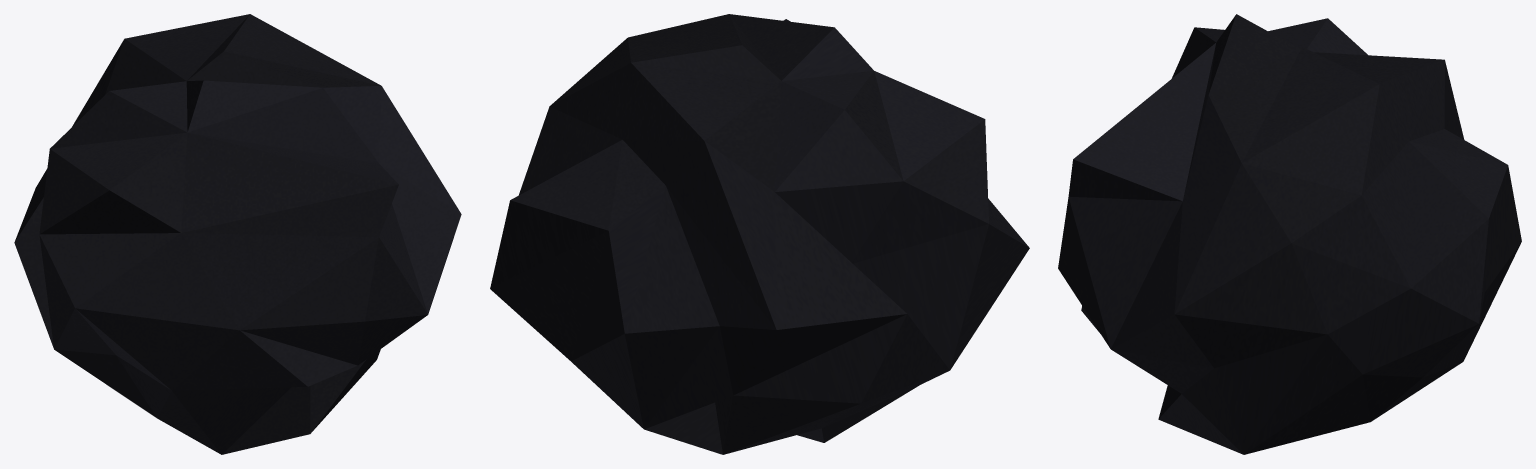
File: stone-a.glb
3 views of the same model, side by side, from view 1: azimuth 30°, elevation 25°; view 2: azimuth 150°, elevation 25°; view 3: azimuth 270°, elevation 25° (orthographic). The views are drawn at different scales.
Parts seen in each view (by area): view 1: StoneA; view 2: StoneA; view 3: StoneA.
Boxes of the visible parts, left/top/right/bottom form: StoneA: left=14, top=14, right=461, bottom=454; StoneA: left=490, top=14, right=1029, bottom=454; StoneA: left=1058, top=14, right=1521, bottom=454.
Bounding box in the file's own units: 2.5 × 2.36 × 2.47.
1 material, 1 textured.
